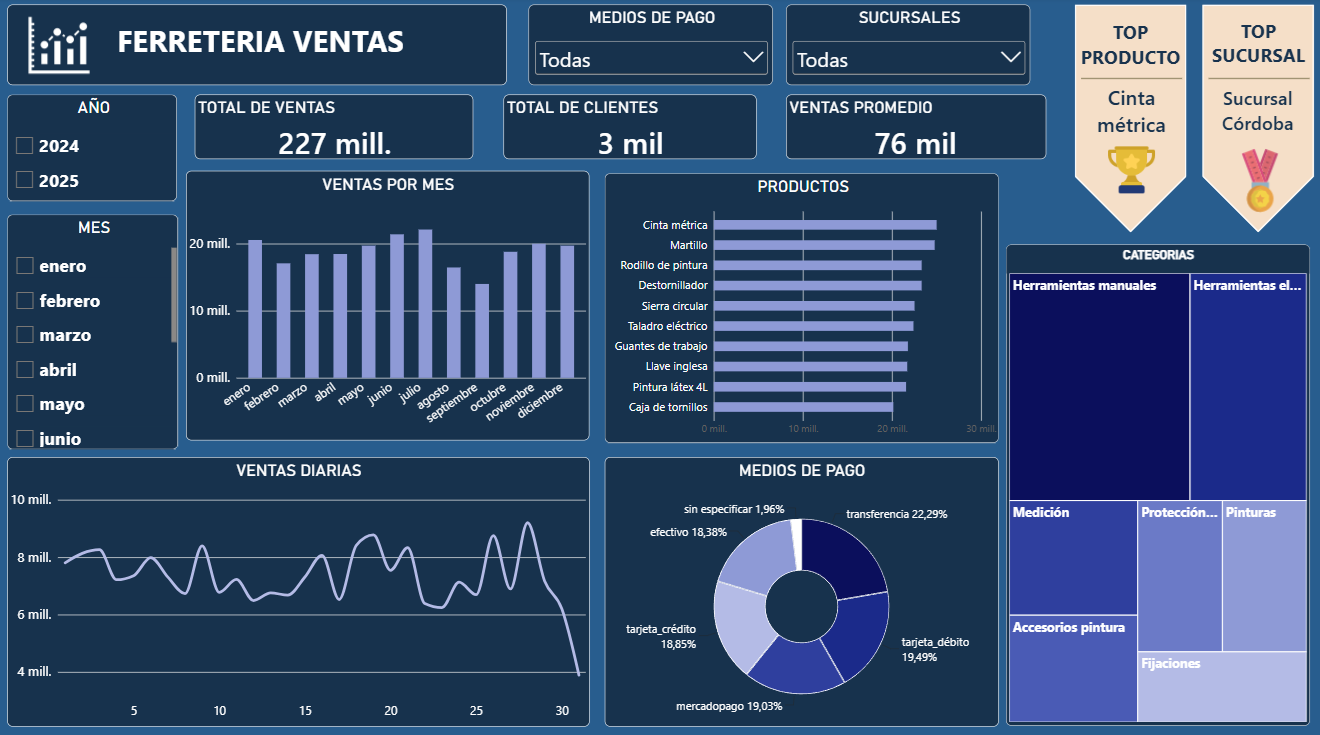

What the dashboard file says about the page in this screenshot:
{"tool":"powerbi","page":{"name":"Página 1","canvas":[1920,1080],"ordinal":0},"visuals":[{"type":"cardVisual","title":"TOTAL DE VENTAS","fields":{"Data":["Sum(public ventas.total_venta)"]},"box":[287.1,141.4,403.1,93.4],"z":0},{"type":"cardVisual","title":"TOTAL DE CLIENTES","fields":{"Data":["public clientes.Clientes"]},"box":[734,141.4,366.4,93.4],"z":1000},{"type":"cardVisual","title":"VENTAS PROMEDIO","fields":{"Data":["public ventas.Promedio Ventas"]},"box":[1144.3,141.4,376.7,93.3],"z":2000},{"type":"treemap","title":"CATEGORIAS","fields":{"Group":["public categorias.nombre"],"Values":["Sum(public ventas.total_venta)"]},"box":[1462.9,358.6,440,696.7],"z":3000},{"type":"clusteredBarChart","title":"PRODUCTOS","fields":{"Category":["public productos.nombre"],"Y":["Sum(public ventas.total_venta)"]},"box":[881.4,255.7,570,390],"z":4000},{"type":"slicer","title":"SUCURSALES","fields":{"Values":["public sucursales.nombre"]},"box":[1144.3,11.4,353.3,116.7],"z":5000},{"type":"shape","box":[1561.7,11.7,161.7,330],"z":6000},{"type":"shape","box":[1746.7,11.7,161.7,330],"z":7000},{"type":"textbox","box":[1565.6,32.2,154.4,76.7],"z":8000},{"type":"textbox","box":[1755,31.7,145,96.7],"z":9000},{"type":"shape","box":[1570,80,146.7,76.7],"z":10000},{"type":"shape","box":[1755,80,146.7,76.7],"z":11000},{"type":"image","box":[1608.3,206.7,70,88.3],"z":12000},{"type":"image","box":[1758.3,216.7,141.7,96.7],"z":13000},{"type":"cardVisual","fields":{"Data":["public ventas.Producto mas vendido"]},"box":[1550,70,186.7,185.6],"z":14000},{"type":"cardVisual","fields":{"Data":["public ventas.Categoria mas medida"]},"box":[1733.3,70,186.7,185.6],"z":15000},{"type":"textbox","box":[17.1,11.4,722.9,117.1],"z":16000},{"type":"textbox","box":[176.2,32.5,427,76],"z":17000},{"type":"image","box":[17.5,23.8,146.2,92.5],"z":18000},{"type":"donutChart","title":"MEDIOS DE PAGO","fields":{"Category":["public medios_pagos.nombre"],"Y":["public ventas.Total Ventas"]},"box":[881.4,665.7,570,390],"z":19000},{"type":"lineChart","title":"VENTAS DIARIAS","fields":{"Category":["public ventas.fecha_hora.Variation.Jerarquía de fechas.Día"],"Y":["Sum(public ventas.total_venta)"]},"box":[17.1,665.7,842.9,390],"z":20000},{"type":"slicer","title":"AÑO","fields":{"Values":["public ventas.Año"]},"box":[17.1,141.4,245.7,154.3],"z":21000},{"type":"slicer","title":"MES","fields":{"Values":["public ventas.fecha_hora.Variation.Jerarquía de fechas.Mes"]},"box":[17.1,314.3,247.1,340],"z":22000},{"type":"columnChart","title":"VENTAS POR MES","fields":{"Category":["public ventas.fecha_hora.Variation.Jerarquía de fechas.Mes"],"Y":["Sum(public ventas.total_venta)"]},"box":[275.7,251.4,584.3,390],"z":23000},{"type":"slicer","title":"MEDIOS DE PAGO","fields":{"Values":["public medios_pagos.nombre"]},"box":[771.4,11.4,353.3,116.7],"z":24000}]}

Visuals, with their boxes in screenshot pixels (x1, y1, x2, y2), scaled from the page's 1920x1080 canvas onto the 1320x735 screenshot:
"TOTAL DE VENTAS" cardVisual: l=197, t=96, r=475, b=160
"TOTAL DE CLIENTES" cardVisual: l=505, t=96, r=757, b=160
"VENTAS PROMEDIO" cardVisual: l=787, t=96, r=1046, b=160
"CATEGORIAS" treemap: l=1006, t=244, r=1308, b=718
"PRODUCTOS" clusteredBarChart: l=606, t=174, r=998, b=439
"SUCURSALES" slicer: l=787, t=8, r=1030, b=87
shape: l=1074, t=8, r=1185, b=233
shape: l=1201, t=8, r=1312, b=233
textbox: l=1076, t=22, r=1182, b=74
textbox: l=1207, t=22, r=1306, b=87
shape: l=1079, t=54, r=1180, b=107
shape: l=1207, t=54, r=1307, b=107
image: l=1106, t=141, r=1154, b=201
image: l=1209, t=147, r=1306, b=213
cardVisual - public ventas.Producto mas vendido: l=1066, t=48, r=1194, b=174
cardVisual - public ventas.Categoria mas medida: l=1192, t=48, r=1319, b=174
textbox: l=12, t=8, r=509, b=87
textbox: l=121, t=22, r=415, b=74
image: l=12, t=16, r=113, b=79
"MEDIOS DE PAGO" donutChart: l=606, t=453, r=998, b=718
"VENTAS DIARIAS" lineChart: l=12, t=453, r=591, b=718
"AÑO" slicer: l=12, t=96, r=181, b=201
"MES" slicer: l=12, t=214, r=182, b=445
"VENTAS POR MES" columnChart: l=190, t=171, r=591, b=437
"MEDIOS DE PAGO" slicer: l=530, t=8, r=773, b=87
